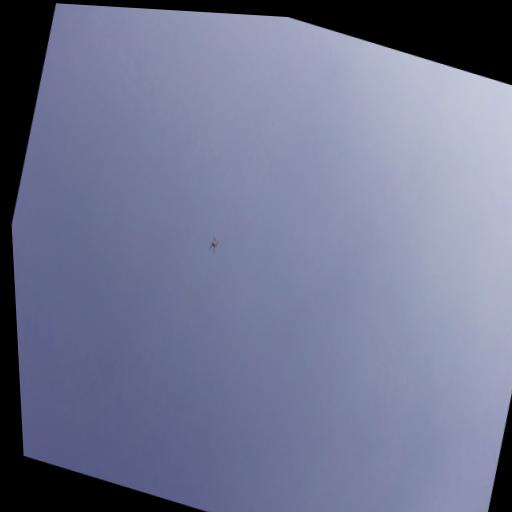drones: (207, 234, 221, 255)
